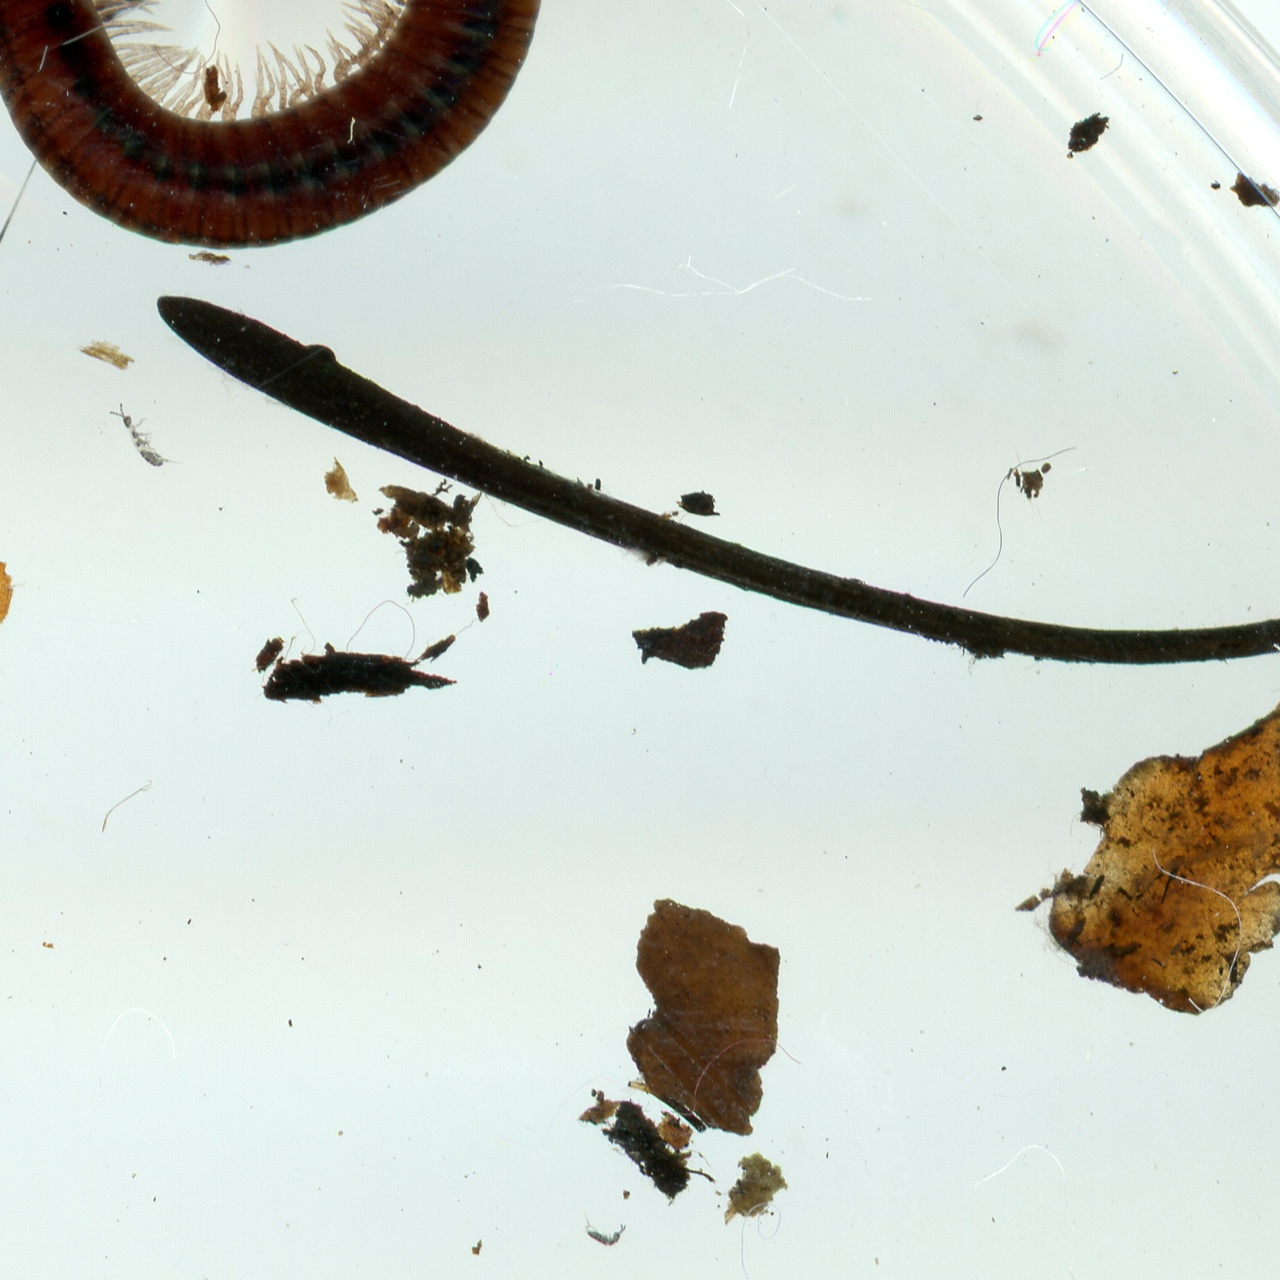arthropod: (0, 0, 552, 253), (104, 390, 185, 485), (572, 1204, 632, 1255)
